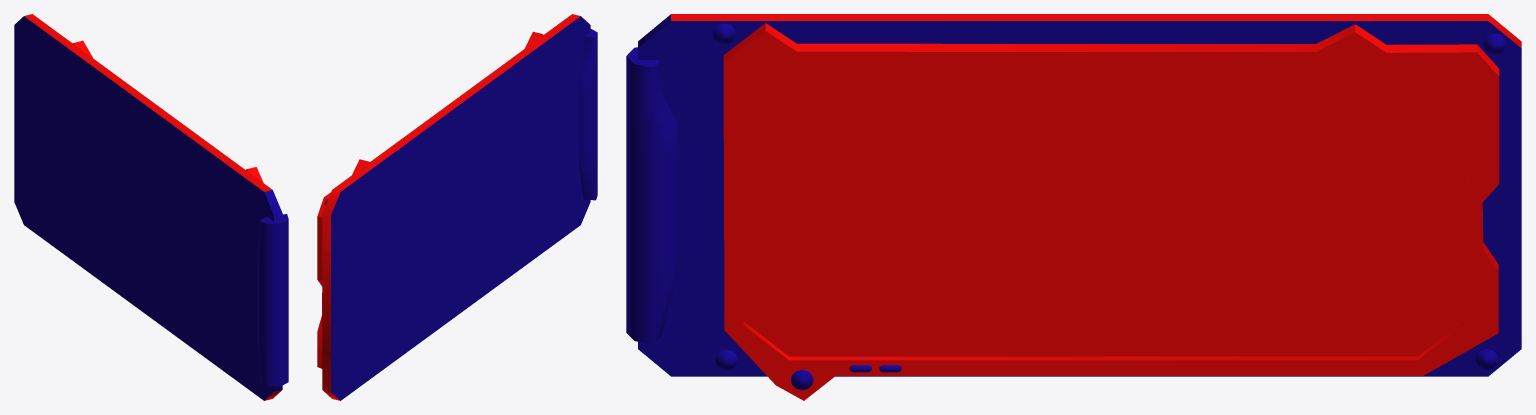
The model's file is Tableta_Wireframe.FBX.
3 renders of one model, left to right at view 1: azimuth 30°, elevation 25°; view 2: azimuth 150°, elevation 25°; view 3: azimuth 270°, elevation 25°, orthographic. The views are drawn at different scales.
Visible parts, largest first — view 1: Line001; view 2: Line001; view 3: Line001.
Boxes of the visible parts, left/top/right/bottom form: Line001: left=14, top=14, right=288, bottom=400; Line001: left=317, top=14, right=597, bottom=400; Line001: left=626, top=14, right=1521, bottom=400.
Bounding box in the file's own units: 2.11 × 13.1 × 28.71.
